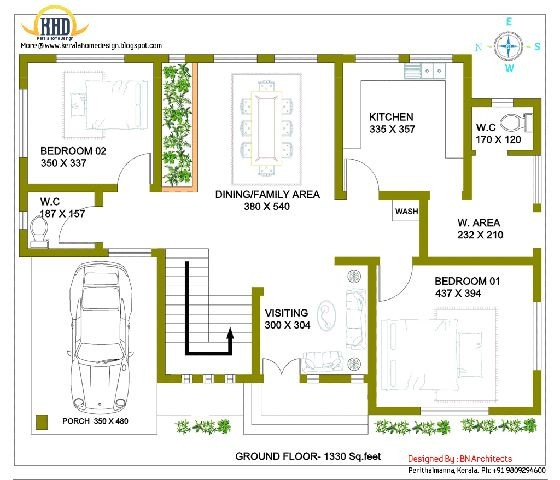door: (374, 255, 540, 416), (339, 61, 469, 253), (192, 53, 336, 205), (253, 202, 370, 385), (20, 53, 155, 188), (471, 101, 541, 256), (21, 180, 125, 251), (62, 202, 115, 244), (114, 149, 154, 199), (377, 253, 412, 302), (260, 351, 304, 389), (347, 153, 377, 205)
wall: (451, 54, 476, 200), (144, 62, 168, 192), (17, 230, 113, 261), (366, 261, 384, 419), (410, 253, 534, 275), (461, 58, 479, 205), (25, 180, 119, 207), (332, 56, 349, 205), (153, 248, 171, 382), (17, 49, 54, 88), (252, 289, 264, 384), (369, 400, 422, 420), (334, 253, 380, 275), (419, 194, 434, 261), (127, 46, 169, 67), (376, 189, 434, 204), (15, 161, 31, 214), (317, 51, 361, 70), (531, 248, 545, 305), (531, 102, 544, 161), (156, 365, 184, 391), (529, 365, 544, 413), (320, 368, 352, 388), (482, 406, 544, 416), (505, 145, 542, 161), (184, 51, 213, 70), (514, 96, 541, 114), (239, 365, 262, 386), (258, 52, 273, 65)
window: (531, 299, 548, 370), (59, 53, 123, 70), (16, 91, 31, 157), (215, 48, 258, 71), (420, 407, 492, 419), (274, 50, 317, 69), (407, 50, 451, 67), (109, 242, 151, 259), (358, 53, 400, 69), (531, 157, 544, 205), (13, 213, 32, 229), (169, 51, 185, 67), (351, 373, 365, 388), (496, 97, 512, 110), (223, 374, 238, 386), (306, 373, 319, 386), (204, 373, 213, 385), (181, 376, 193, 384)
